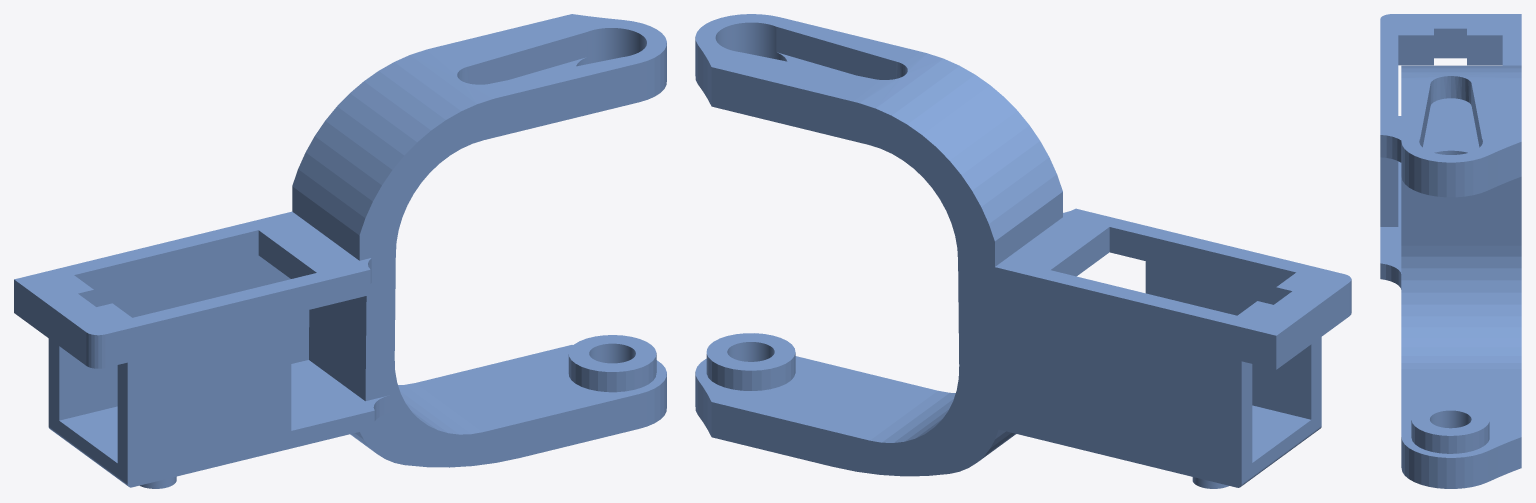
File: shell0.gltf
3 views of the same model, side by side, from view 1: azimuth 30°, elevation 25°; view 2: azimuth 150°, elevation 25°; view 3: azimuth 270°, elevation 25° (orthographic). The views are drawn at different scales.
Visible parts, largest first — view 1: mesh1079, mesh1219, mesh1096, mesh1104, mesh1238, mesh1175, mesh1089, mesh1092, mesh1070, mesh1172, mesh1072, mesh1239 (+16 smaller); view 2: mesh1218, mesh1071, mesh1097, mesh1104, mesh1238, mesh1175, mesh1070, mesh1143, mesh1072, mesh1239, mesh1171, mesh1105 (+14 smaller); view 3: mesh1205, mesh1238, mesh1104, mesh1175, mesh1170, mesh1207, mesh1208, mesh1209, mesh1210, mesh1211, mesh1239, mesh1206 (+44 smaller).
Part boxes in pixels (<box>): mesh1079: <box>105,269,374,487</box>; mesh1219: <box>359,63,639,467</box>; mesh1096: <box>59,230,309,420</box>; mesh1104: <box>14,211,371,335</box>; mesh1238: <box>416,345,666,431</box>; mesh1175: <box>435,14,666,96</box>; mesh1089: <box>59,362,386,462</box>; mesh1092: <box>309,296,366,400</box>; mesh1070: <box>48,338,127,483</box>; mesh1172: <box>468,32,586,84</box>; mesh1072: <box>14,279,86,365</box>; mesh1239: <box>568,335,656,371</box>; mesh1218: <box>711,67,1241,487</box>; mesh1071: <box>1001,276,1276,470</box>; mesh1097: <box>1109,227,1311,419</box>; mesh1104: <box>995,208,1351,335</box>; mesh1238: <box>695,356,937,440</box>; mesh1175: <box>695,14,917,100</box>; mesh1070: <box>1241,337,1321,483</box>; mesh1143: <box>776,27,895,79</box>; mesh1072: <box>1276,282,1349,369</box>; mesh1239: <box>706,333,795,370</box>; mesh1171: <box>715,22,787,61</box>; mesh1105: <box>995,192,1062,266</box>; mesh1205: <box>1401,176,1521,245</box>; mesh1238: <box>1401,369,1521,457</box>; mesh1104: <box>1380,14,1521,139</box>; mesh1175: <box>1401,82,1521,162</box>; mesh1170: <box>1423,98,1479,152</box>; mesh1207: <box>1401,256,1521,268</box>; mesh1208: <box>1401,268,1521,280</box>; mesh1209: <box>1401,280,1521,292</box>; mesh1210: <box>1401,292,1521,304</box>; mesh1211: <box>1401,304,1521,316</box>; mesh1239: <box>1411,402,1489,435</box>; mesh1206: <box>1401,245,1521,256</box>.
Bounding box in the file's own units: 0.0755 × 0.0436 × 0.0171.
